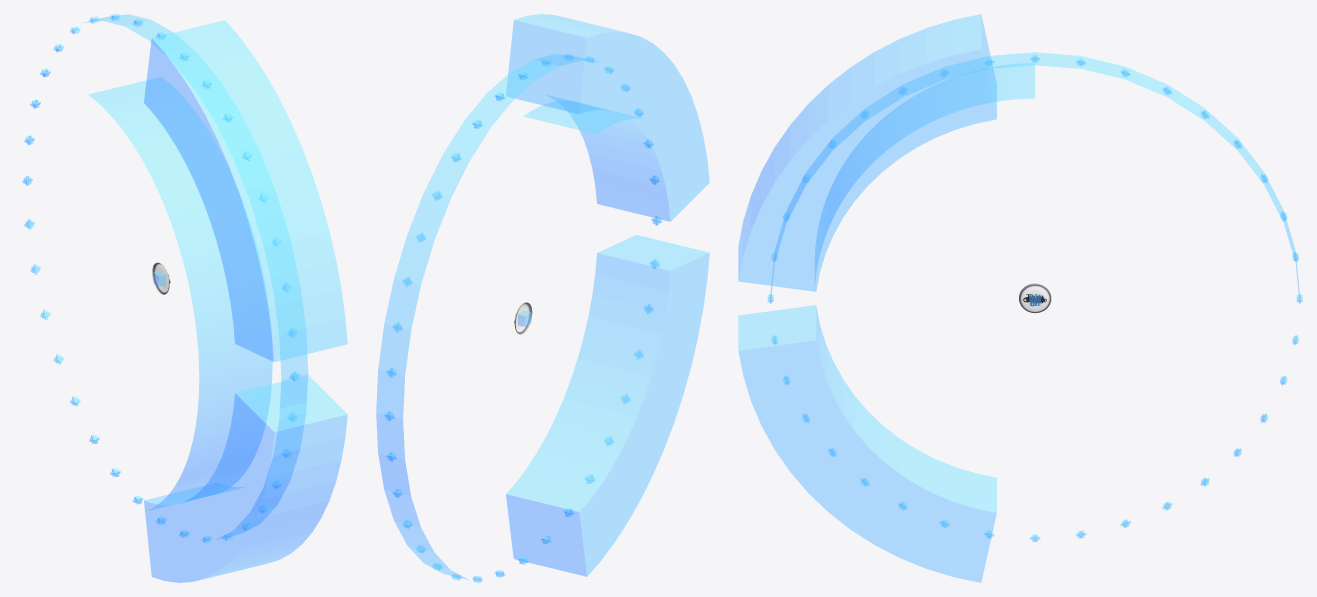
The model's file is BTLMN_InterfaceRing.glb.
3 views of the same model, side by side, from view 1: azimuth 30°, elevation 25°; view 2: azimuth 150°, elevation 25°; view 3: azimuth 270°, elevation 25° (orthographic).
Parts seen in each view (by area): view 1: ring_arrow_up, ring_back, ring_arrow_down, ring_main, icon_back_a_on; view 2: ring_arrow_down, ring_arrow_up, ring_main, ring_back, icon_back_a_on; view 3: ring_arrow_down, ring_arrow_up, ring_back, ring_main.
Part boxes in pixels (<box>): ring_arrow_up: <box>144,20,347,361</box>; ring_back: <box>88,77,272,511</box>; ring_arrow_down: <box>144,375,347,582</box>; ring_main: <box>22,14,307,541</box>; icon_back_a_on: <box>152,262,169,294</box>; ring_arrow_down: <box>506,235,709,576</box>; ring_arrow_up: <box>506,14,709,221</box>; ring_main: <box>376,54,661,581</box>; ring_back: <box>524,101,643,133</box>; icon_back_a_on: <box>514,302,532,334</box>; ring_arrow_down: <box>738,305,996,582</box>; ring_arrow_up: <box>738,14,996,291</box>; ring_back: <box>815,63,1034,280</box>; ring_main: <box>769,52,1300,540</box>.
Bounding box in the file's own units: 2.16 × 10.1 × 9.68.
Materials: 5 (3 with a texture image).
